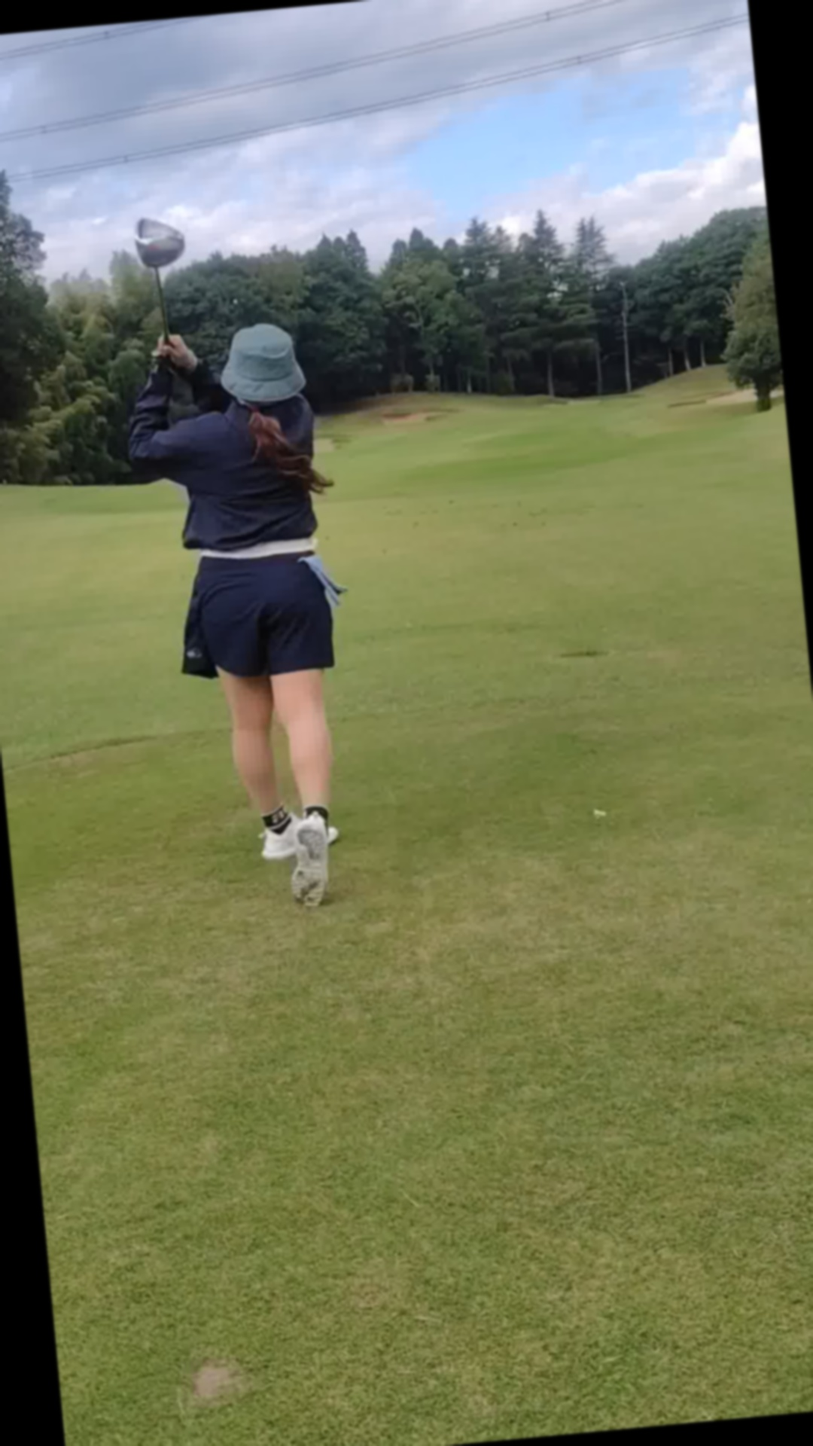clubhead: (65, 176, 348, 399)
